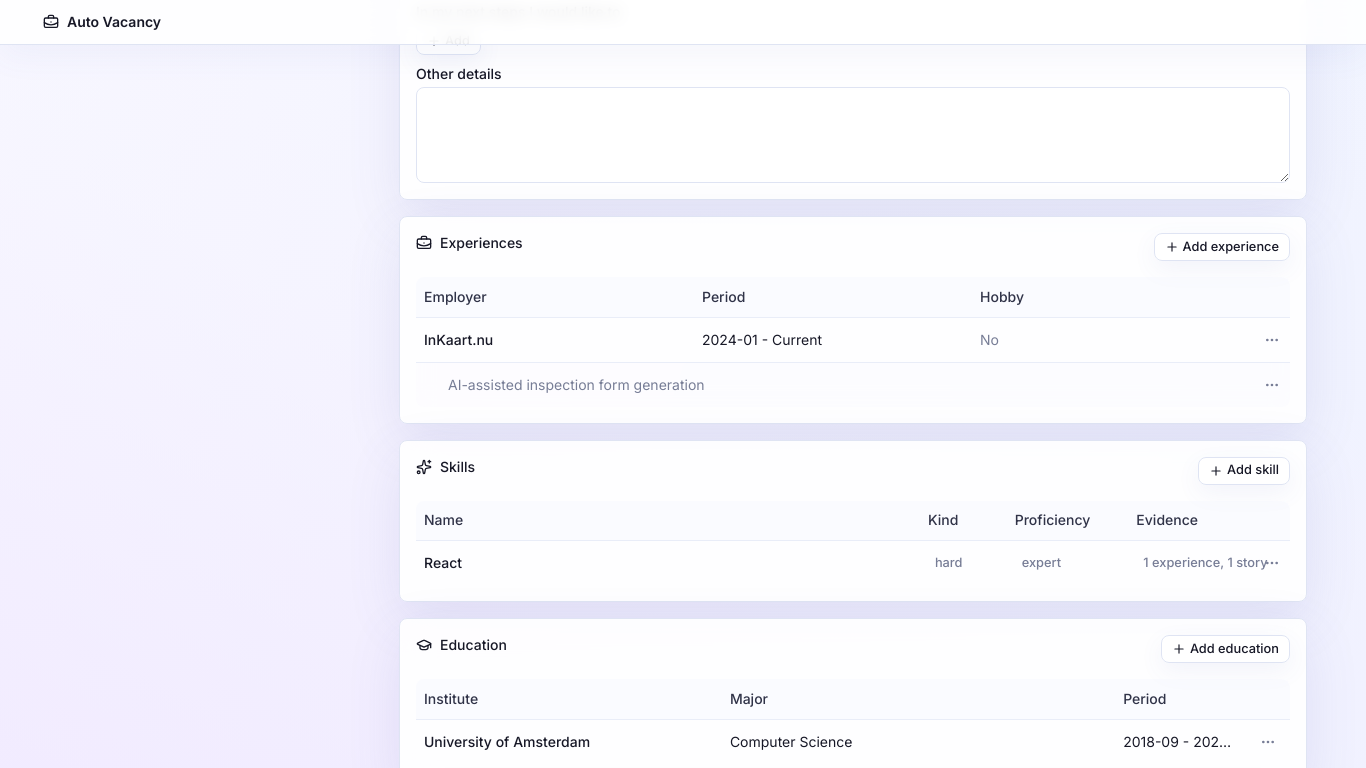
Test: ProfileApp › confirms and deletes an Experience Story from the draft
(page scrolled)
Click the button named "Experience Story actions": (1272, 384) x1=1258 y1=370 x2=1286 y2=398
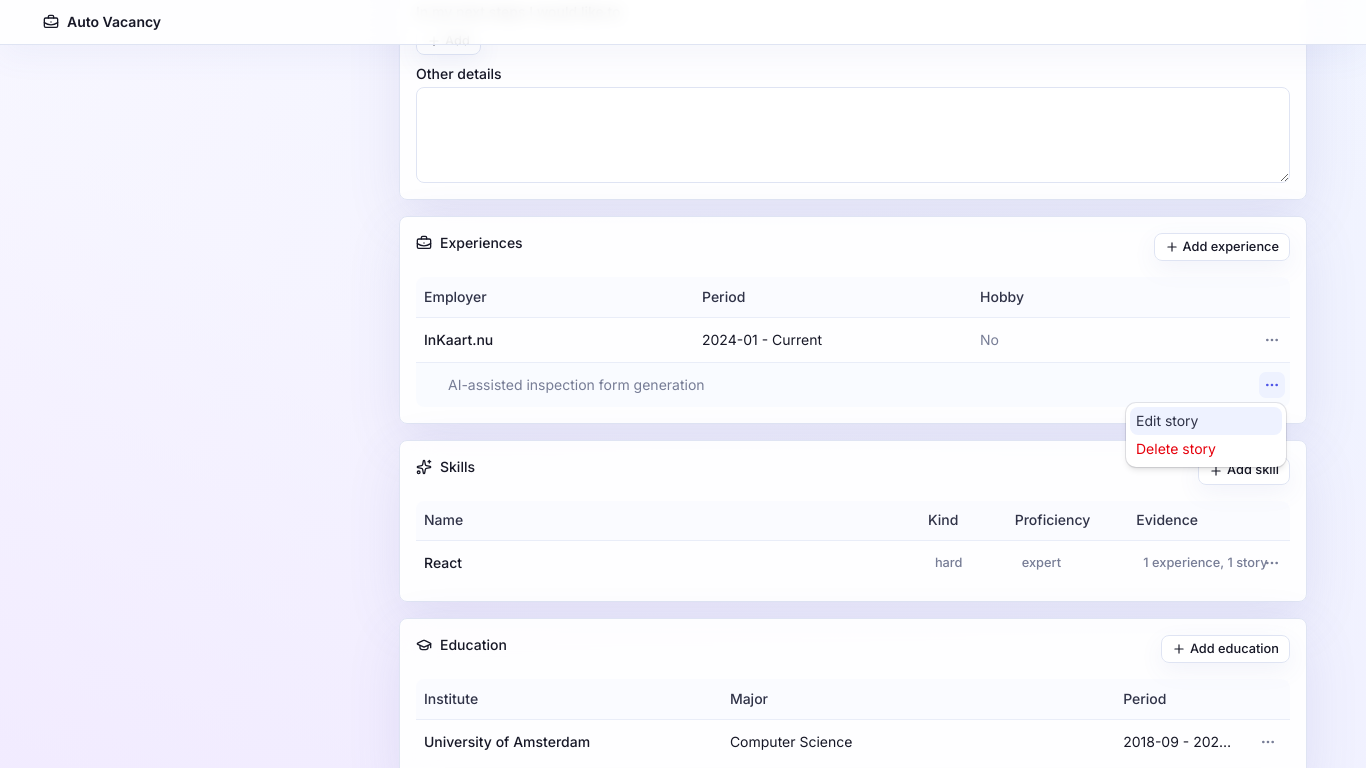
Click the menu item "Delete story": (1176, 448) x1=1136 y1=440 x2=1216 y2=457
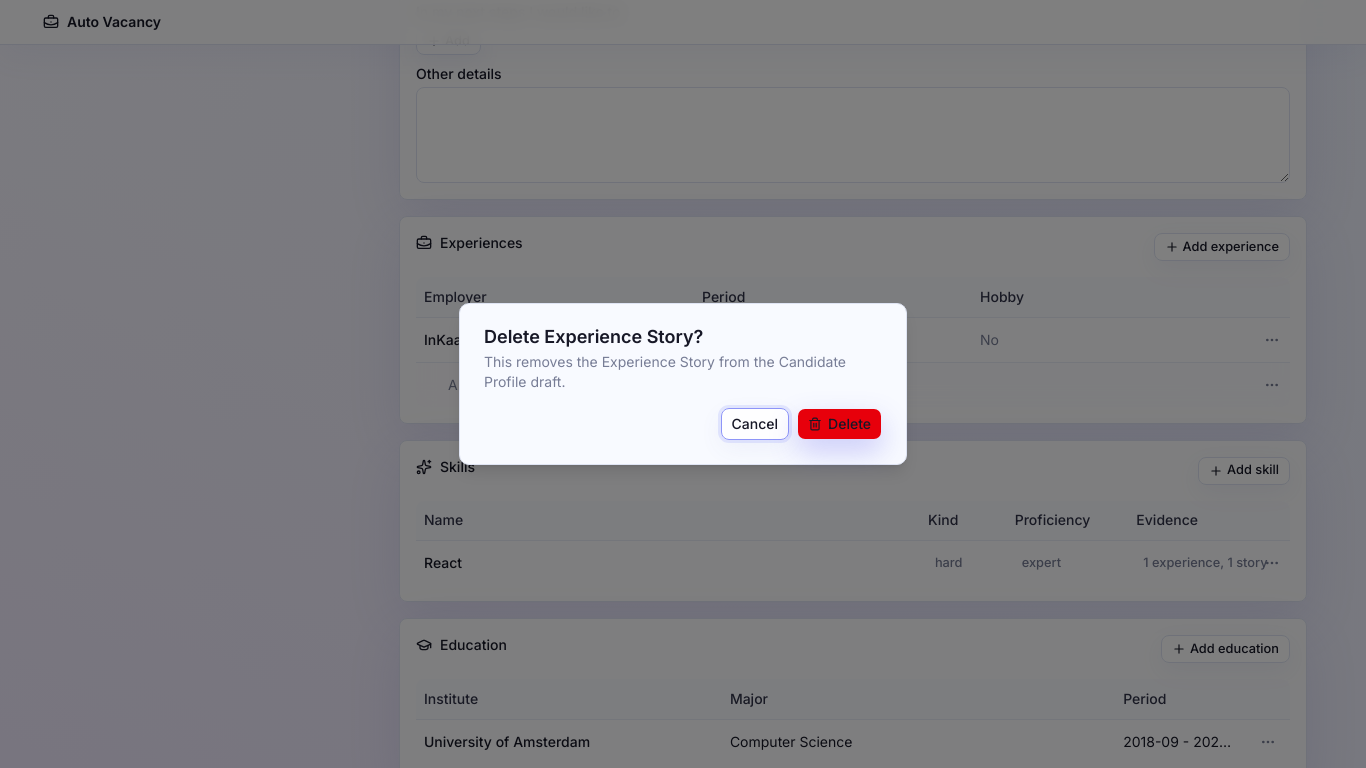
Check: the heading "Delete Experience Story?" is shown, box x1=484 y1=326 x2=703 y2=347
Click the button "Delete": (840, 424) x1=797 y1=408 x2=882 y2=440
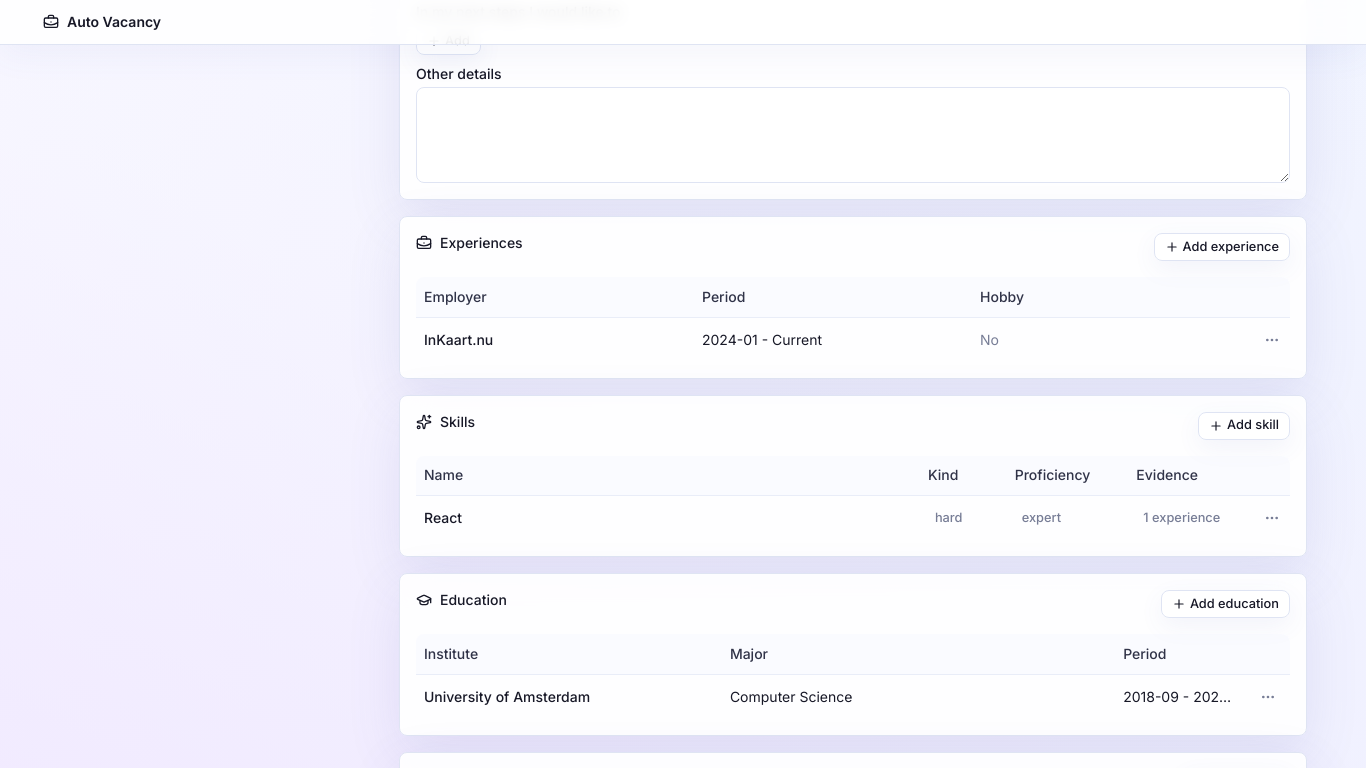
Check: the text "AI-assisted inspection form generation" is gone
